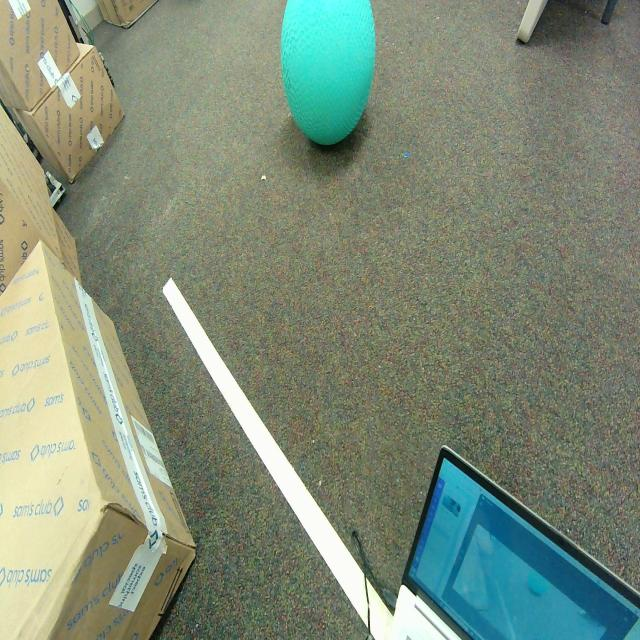algae: (280, 0, 376, 146)
